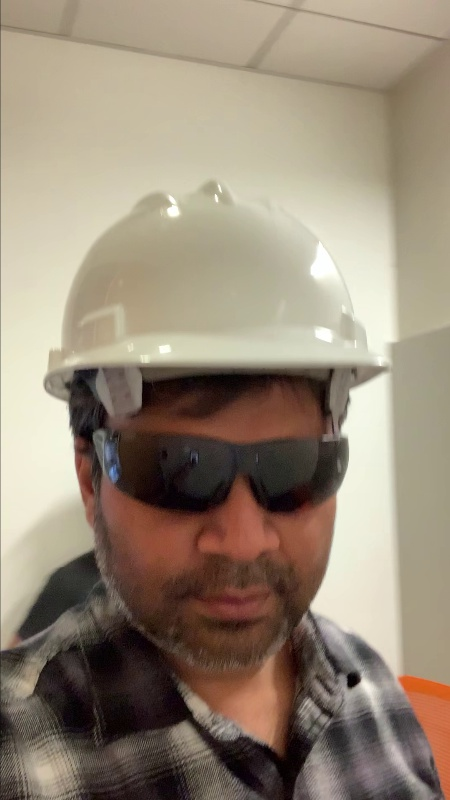glasses: (101, 423, 347, 519)
helmet: (35, 171, 386, 397)
